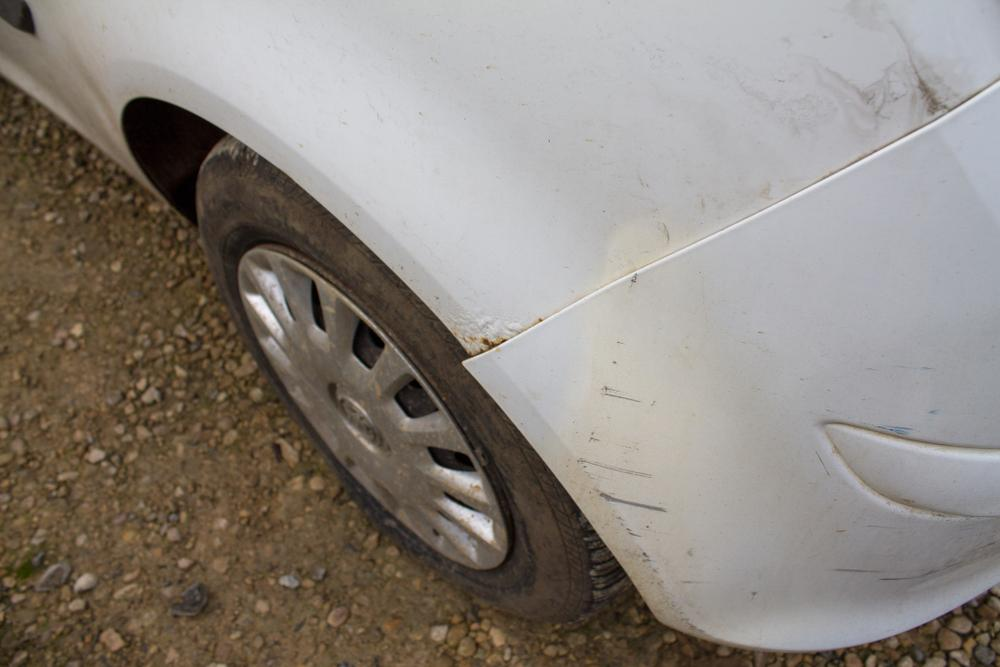scratch: (571, 316, 691, 586)
